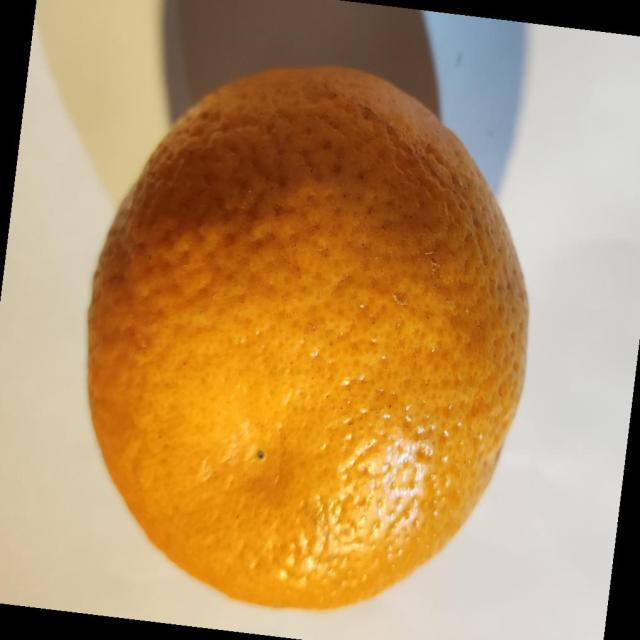fresh orange: (85, 64, 530, 610)
